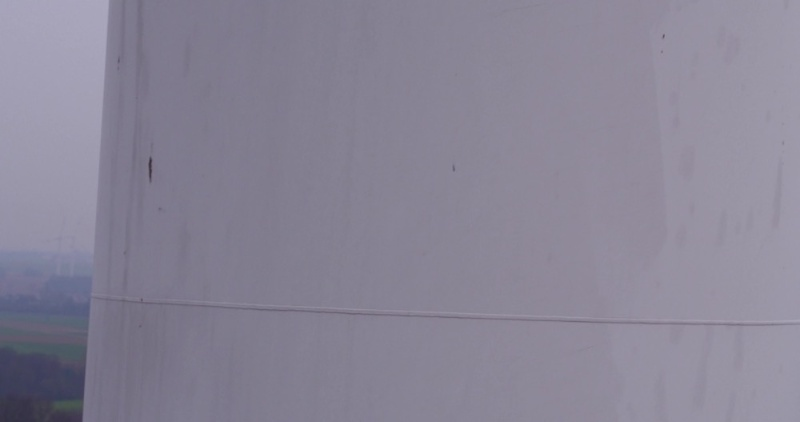weldseam: (87, 287, 800, 333)
